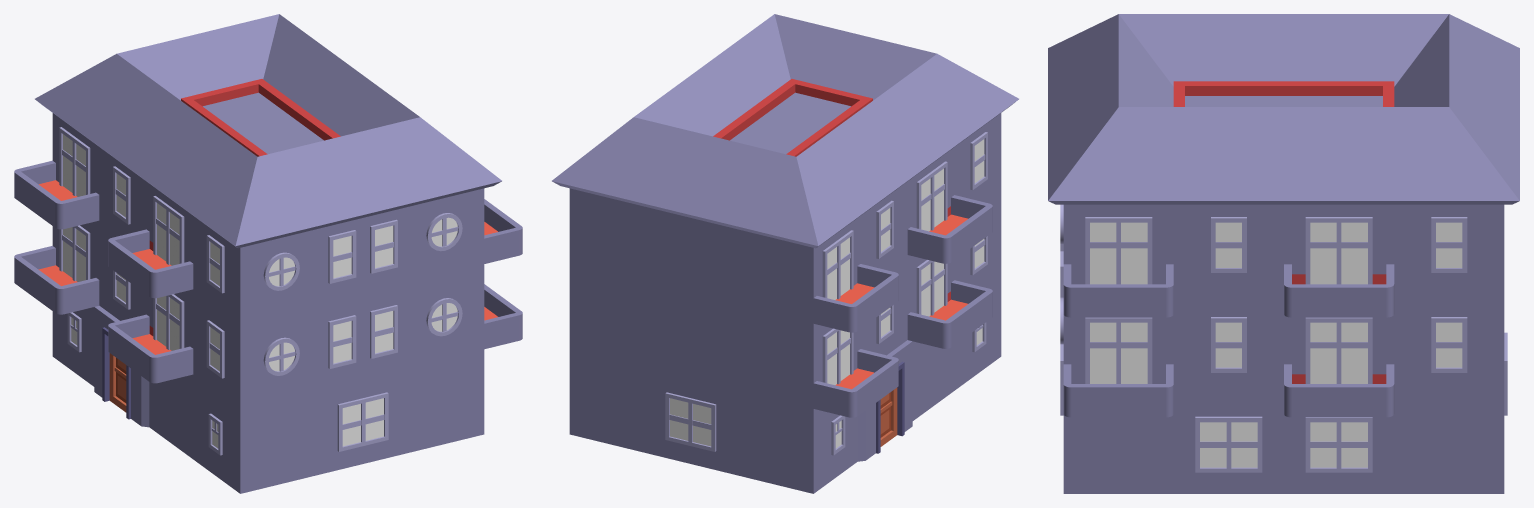
Rendered from WideBuilding.glb.
3 renders of one model, left to right at view 1: azimuth 30°, elevation 25°; view 2: azimuth 150°, elevation 25°; view 3: azimuth 270°, elevation 25°, orthographic. The views are drawn at different scales.
Visible parts, largest first — view 1: mergedBlocks(Clone); view 2: mergedBlocks(Clone); view 3: mergedBlocks(Clone).
Boxes of the visible parts, x1,y1,x2,y2 form: mergedBlocks(Clone): (14, 14, 522, 493); mergedBlocks(Clone): (552, 14, 1018, 493); mergedBlocks(Clone): (1048, 14, 1519, 493).
Bounding box in the file's own units: 4 × 3.64 × 4.28.
